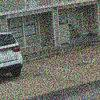cars: (0, 30, 23, 81)
